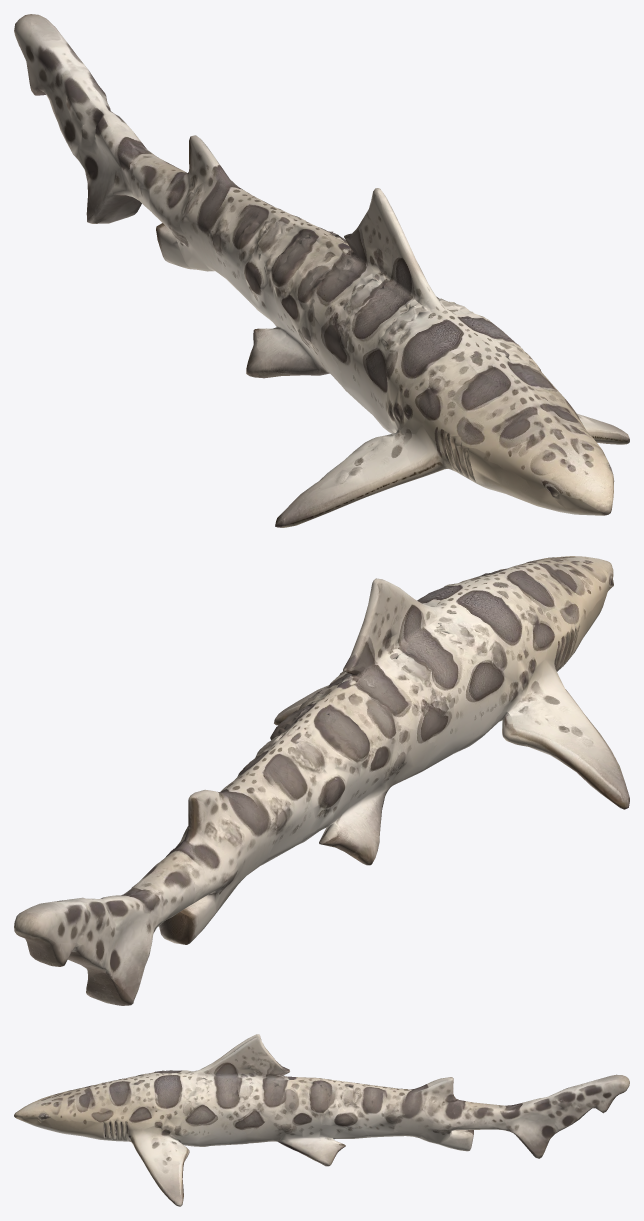
Rendered from leopard-shark.glb.
The picture shows the model from 3 angles, top to bottom: view 1: azimuth 30°, elevation 25°; view 2: azimuth 150°, elevation 25°; view 3: azimuth 270°, elevation 25°; orthographic projection. The views are drawn at different scales.
Parts seen in each view (by area): view 1: mesh_node; view 2: mesh_node; view 3: mesh_node.
Part boxes in pixels (x1,y1,x2,y2): mesh_node: (14, 14, 629, 527); mesh_node: (14, 556, 629, 1005); mesh_node: (14, 1034, 629, 1206).
Size of the model in its own units: 2.62 by 1.71 by 7.5.
Materials: 1 (1 with a texture image).
